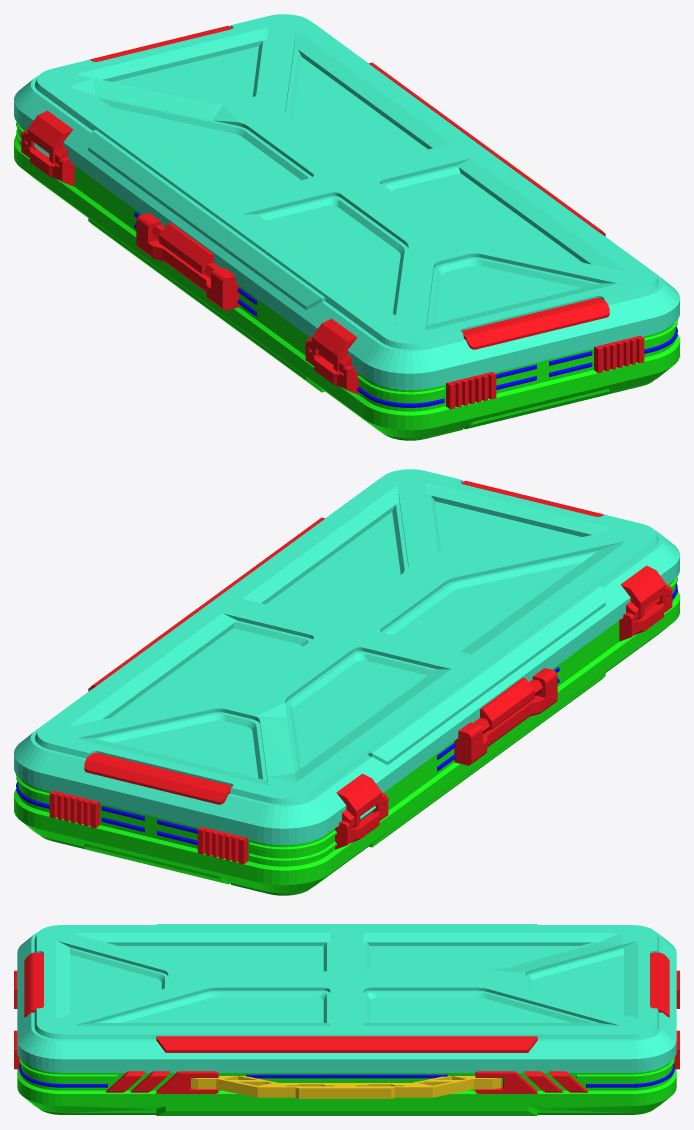
Rendered from un_toolbox.fbx.
3 views of the same model, one above another, from view 1: azimuth 30°, elevation 25°; view 2: azimuth 150°, elevation 25°; view 3: azimuth 270°, elevation 25° (orthographic). The views are drawn at different scales.
Parts seen in each view (by area): view 1: Upper, Lower; view 2: Upper, Lower; view 3: Upper, Lower.
Part boxes in pixels (box(x1,y1,x2,y2)): Upper: box(14, 14, 679, 389); Lower: box(14, 121, 679, 440); Upper: box(14, 469, 679, 844); Lower: box(14, 576, 679, 895); Upper: box(17, 924, 676, 1072); Lower: box(14, 970, 679, 1115).
Bounding box in the file's own units: 204 × 54.08 × 404.
